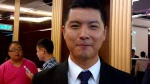male: (54, 4, 120, 74)
